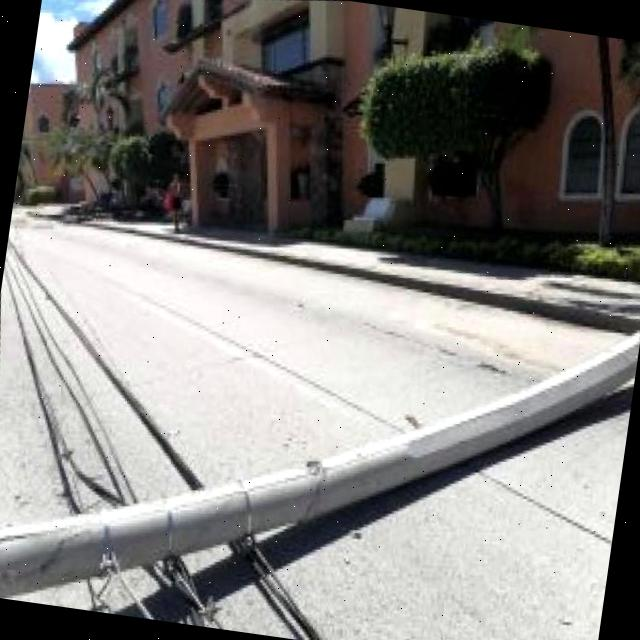Broken Pole: (0, 330, 639, 600)
